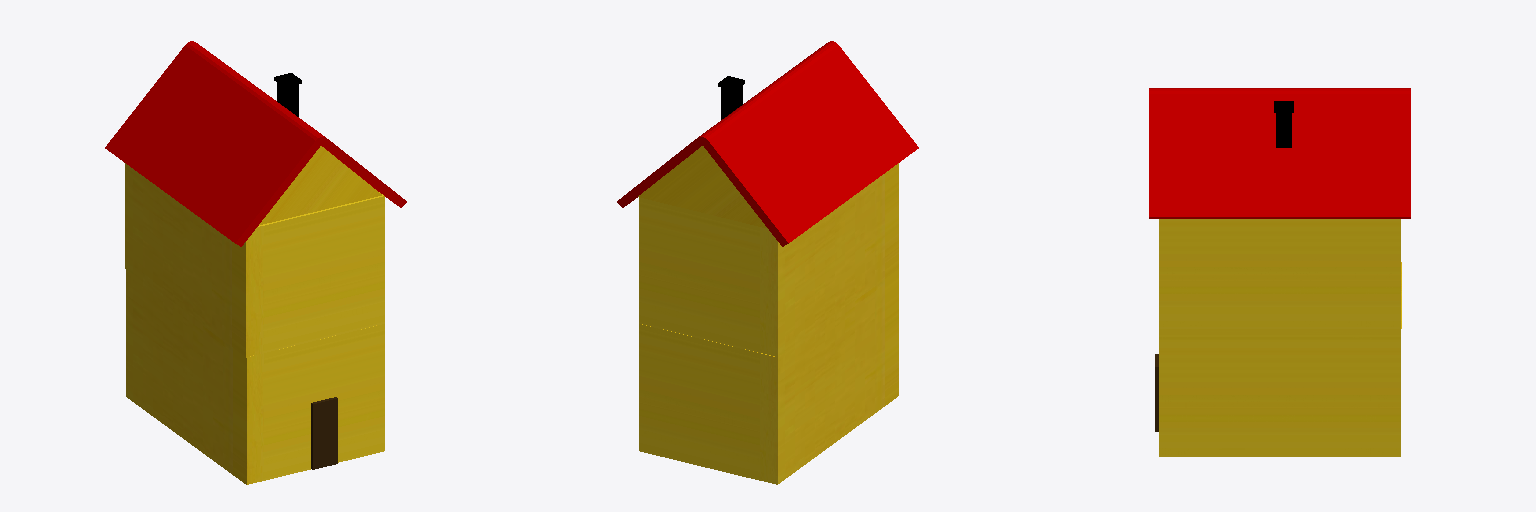
The picture shows the model from 3 angles: view 1: azimuth 30°, elevation 25°; view 2: azimuth 150°, elevation 25°; view 3: azimuth 270°, elevation 25°; orthographic projection.
Visible parts, largest first — view 1: House3, House2, Roof, House1, Door, Chimney; view 2: House3, House2, Roof, House1, Chimney; view 3: Roof, House3, House2, Chimney.
Boxes of the visible parts, x1,y1,x2,y2 form: House3: [126, 270, 384, 484]; House2: [125, 163, 384, 357]; Roof: [105, 41, 406, 246]; House1: [253, 146, 381, 355]; Door: [311, 397, 337, 469]; Chimney: [274, 73, 301, 116]; House3: [639, 269, 898, 484]; House2: [639, 163, 898, 356]; Roof: [617, 41, 918, 246]; House1: [638, 146, 774, 356]; Chimney: [718, 76, 744, 119]; Roof: [1149, 88, 1410, 218]; House3: [1159, 329, 1400, 456]; House2: [1159, 219, 1400, 328]; Chimney: [1274, 101, 1293, 147].
Size of the model in its own units: 0.2771 by 0.5158 by 0.3642.
7 materials, 3 textured.